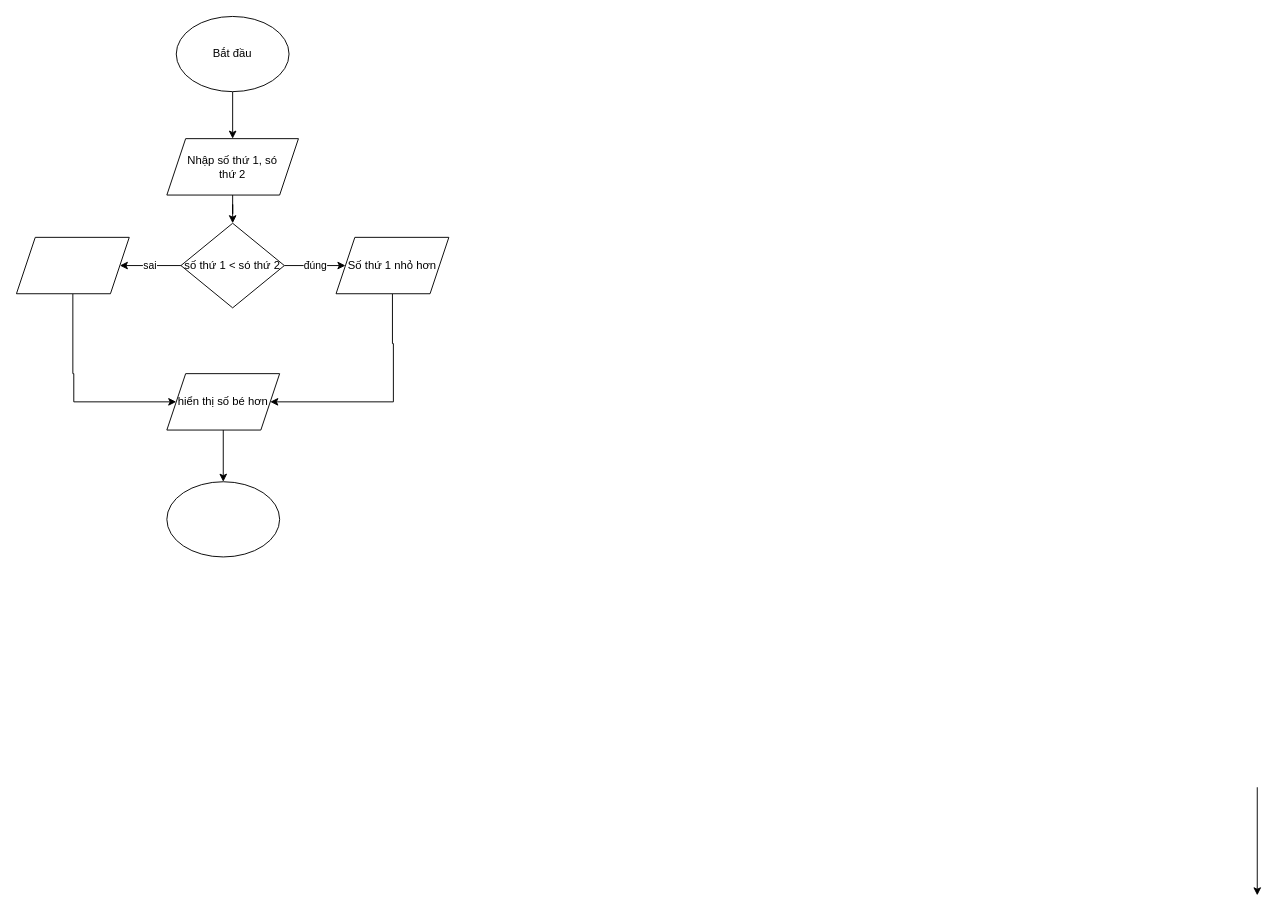
The diagram is 1281 pixels wide and 919 high, and some of its shapes have lost their labels. Each missing label, with the centre of its shape:
"Kết thúc" belongs at pixel 223 519.
"số thứ 2 nhỏ hơn" belongs at pixel 72 265.
